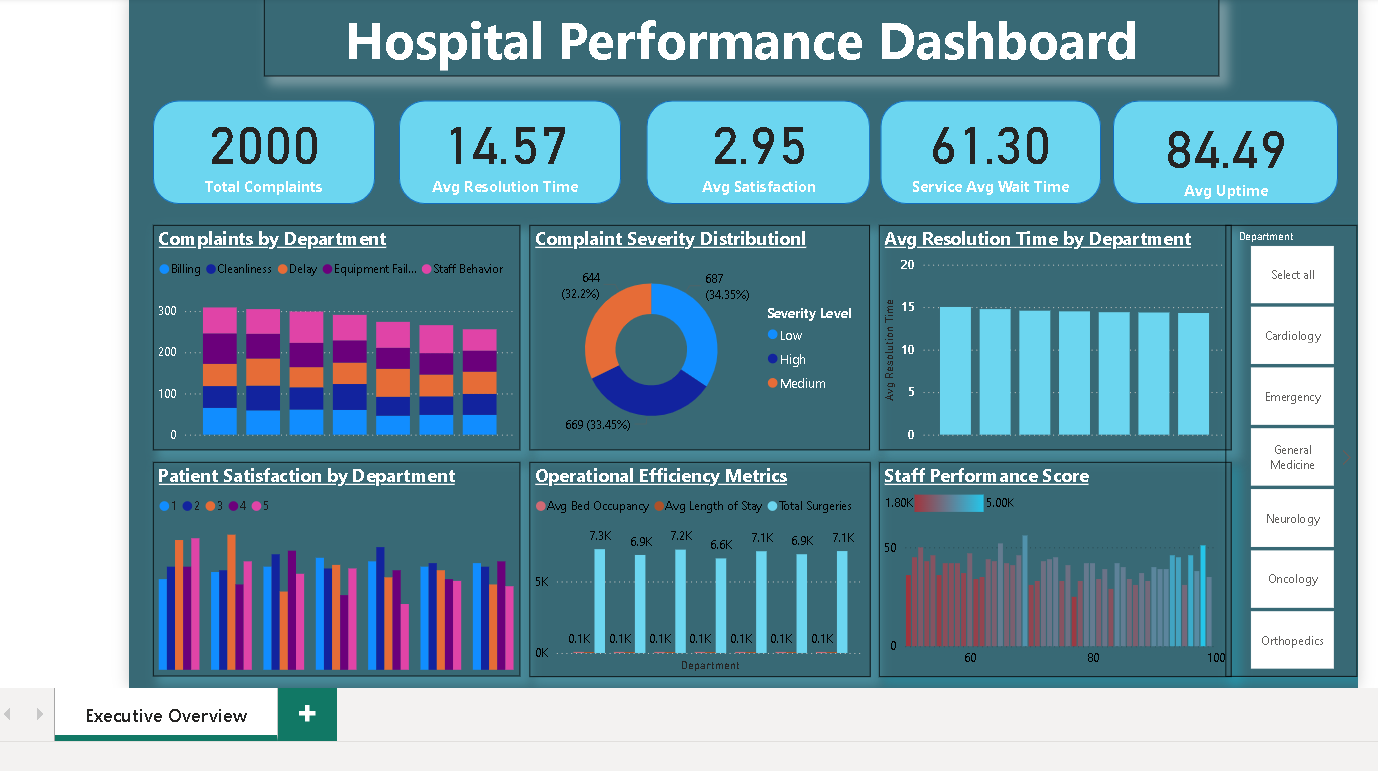

The dashboard page shown, as its layout file describes it:
{"tool":"powerbi","page":{"name":"Executive Overview","canvas":[1280,720],"ordinal":0},"visuals":[{"type":"card","fields":{"Values":["Measure Table.Dashboard Title"]},"box":[140.7,0,995.6,82.8],"z":0},{"type":"shape","box":[281.3,107.8,231.3,107.8],"z":1000},{"type":"shape","box":[539.2,107.8,232.9,107.8],"z":2000},{"type":"shape","box":[783.1,107.8,229.8,107.8],"z":3000},{"type":"shape","box":[1025.3,107.8,234.4,107.8],"z":4000},{"type":"shape","box":[25,107.8,231.3,107.8],"z":5000},{"type":"card","fields":{"Values":["Measure Table.Total Complaints"]},"box":[25,82.8,231.3,150],"z":6000},{"type":"card","fields":{"Values":["Measure Table.Avg Uptime"]},"box":[1026.9,87.5,231.3,150],"z":7000},{"type":"card","fields":{"Values":["Measure Table.Service Avg Wait Time"]},"box":[781.5,82.8,231.3,150],"z":8000},{"type":"card","fields":{"Values":["Measure Table.Avg Satisfaction"]},"box":[540.8,82.8,231.3,150],"z":9000},{"type":"card","fields":{"Values":["Measure Table.Avg Resolution Time"]},"box":[276.6,82.8,229.8,150],"z":10000},{"type":"columnChart","title":"Complaints by Department ","fields":{"Category":["complaints.Department"],"Y":["Measure Table.Total Complaints"],"Series":["complaints.Complaint_Type"]},"box":[25,237.6,382.9,234.4],"z":11000},{"type":"donutChart","title":"Complaint  Severity Distributionl","fields":{"Category":["complaints.Severity_Level"],"Y":["Measure Table.Total Complaints"]},"box":[417.3,237.6,354.8,234.4],"z":12000},{"type":"clusteredColumnChart","title":"Avg Resolution Time by Department","fields":{"Category":["complaints.Department"],"Y":["Measure Table.Avg Resolution Time"]},"box":[781.5,237.6,367.3,234.4],"z":13000},{"type":"clusteredColumnChart","title":"Patient Satisfaction by Department","fields":{"Category":["patient_feedback.Department"],"Series":["patient_feedback.Overall_Satisfaction"],"Y":["Measure Table.Count of Feedback"]},"box":[25,484.5,382.9,223.5],"z":14000},{"type":"clusteredColumnChart","title":"Operational Efficiency Metrics","fields":{"Category":["operational_efficiency.Department"],"Y":["Measure Table.Avg Bed Occupancy","Measure Table.Avg Length of Stay","Measure Table.Total Surgeries"]},"box":[417,485,355,224],"z":15000},{"type":"clusteredColumnChart","title":"Staff Performance Score","fields":{"Category":["staff_performance.Performance_Score"],"Y":["CountNonNull(staff_performance.Department)"]},"box":[781,485,367,224],"z":16000},{"type":"slicer","fields":{"Values":["complaints.Department"]},"box":[1142.5,237.6,137.5,470.5],"z":17000}]}

Visuals, with their boxes on the page's 1280x720 design canvas (x1, y1, x2, y2). These are canvas units, not pixel positions in the 1378x771 screenshot, which may show the page scaled, cropped or inside an application window:
card - Measure Table.Dashboard Title: <box>141,0,1136,83</box>
shape: <box>281,108,513,216</box>
shape: <box>539,108,772,216</box>
shape: <box>783,108,1013,216</box>
shape: <box>1025,108,1260,216</box>
shape: <box>25,108,256,216</box>
card - Measure Table.Total Complaints: <box>25,83,256,233</box>
card - Measure Table.Avg Uptime: <box>1027,88,1258,238</box>
card - Measure Table.Service Avg Wait Time: <box>782,83,1013,233</box>
card - Measure Table.Avg Satisfaction: <box>541,83,772,233</box>
card - Measure Table.Avg Resolution Time: <box>277,83,506,233</box>
"Complaints by Department " columnChart: <box>25,238,408,472</box>
"Complaint  Severity Distributionl" donutChart: <box>417,238,772,472</box>
"Avg Resolution Time by Department" clusteredColumnChart: <box>782,238,1149,472</box>
"Patient Satisfaction by Department" clusteredColumnChart: <box>25,484,408,708</box>
"Operational Efficiency Metrics" clusteredColumnChart: <box>417,485,772,709</box>
"Staff Performance Score" clusteredColumnChart: <box>781,485,1148,709</box>
slicer - complaints.Department: <box>1142,238,1280,708</box>
